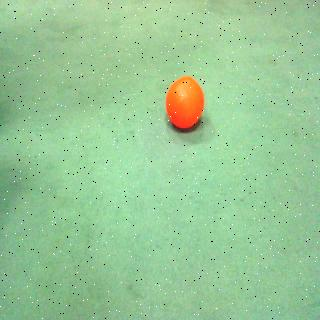orange: (162, 74, 208, 138)
